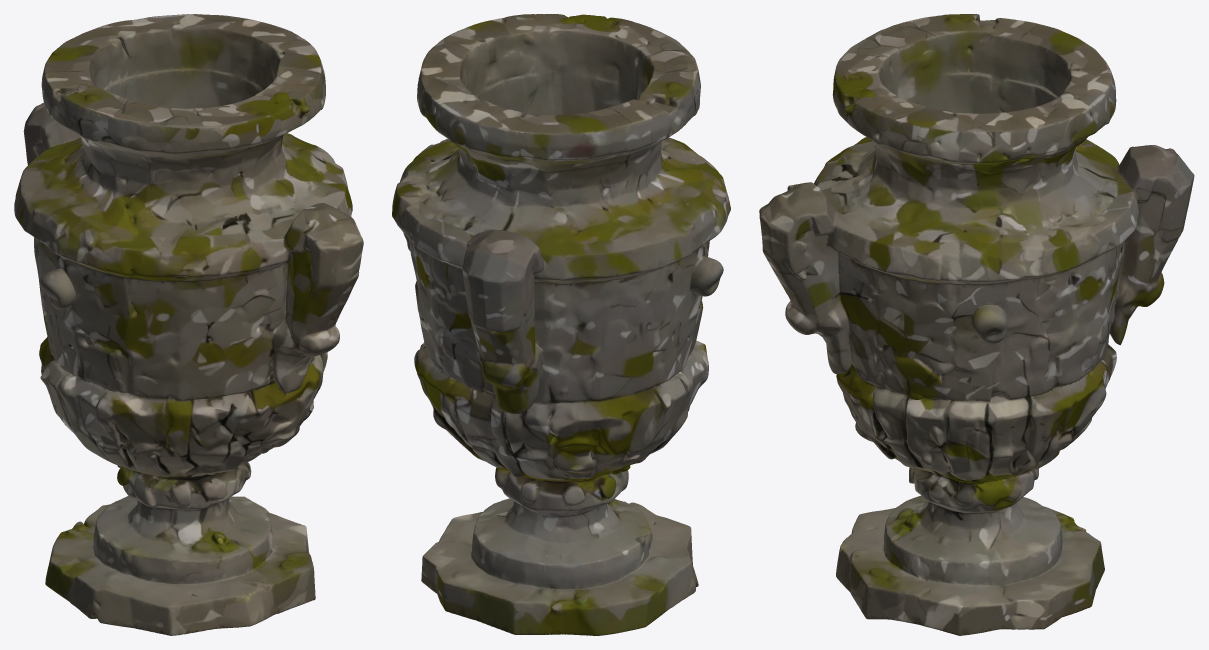
File: ruin_urn.glb
3 views of the same model, side by side, from view 1: azimuth 30°, elevation 25°; view 2: azimuth 150°, elevation 25°; view 3: azimuth 270°, elevation 25° (orthographic).
Visible parts, largest first — view 1: tripo_node_e05e107e-7d75-4e0e-bb49-8f7ace831aa8; view 2: tripo_node_e05e107e-7d75-4e0e-bb49-8f7ace831aa8; view 3: tripo_node_e05e107e-7d75-4e0e-bb49-8f7ace831aa8.
Part boxes in pixels (x1,y1,x2,y2): tripo_node_e05e107e-7d75-4e0e-bb49-8f7ace831aa8: (14, 14, 363, 635); tripo_node_e05e107e-7d75-4e0e-bb49-8f7ace831aa8: (392, 14, 730, 635); tripo_node_e05e107e-7d75-4e0e-bb49-8f7ace831aa8: (759, 14, 1194, 635).
Bounding box in the file's own units: 0.6007 × 1 × 0.7671.
1 material, 1 textured.
